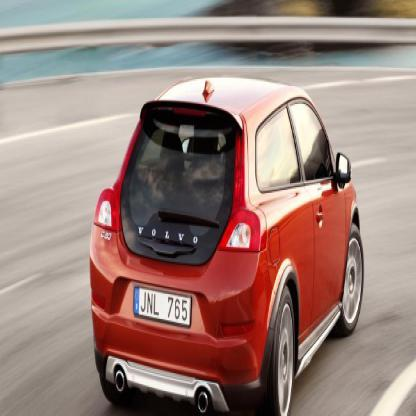Vehicle: (90, 76, 366, 415)
